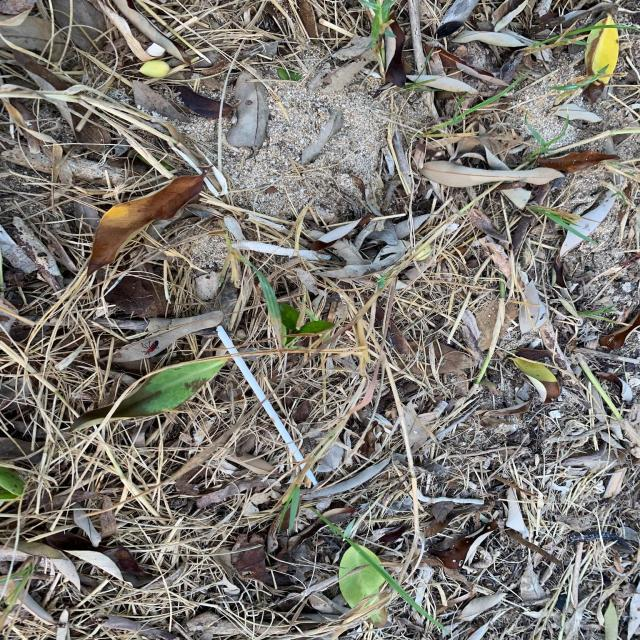litter: (218, 328, 321, 484)
